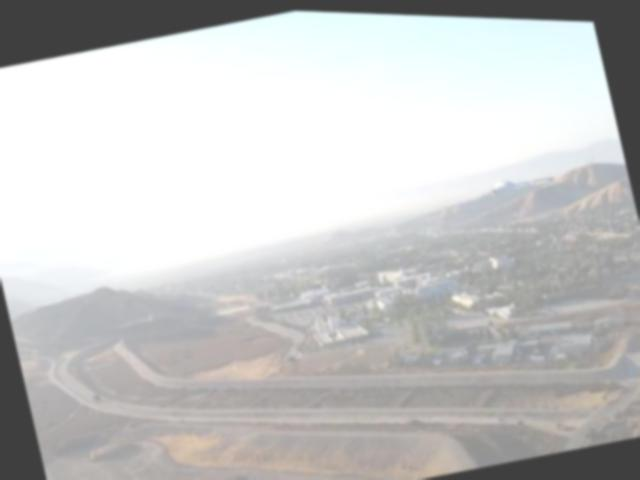iha: (481, 157, 561, 202)
